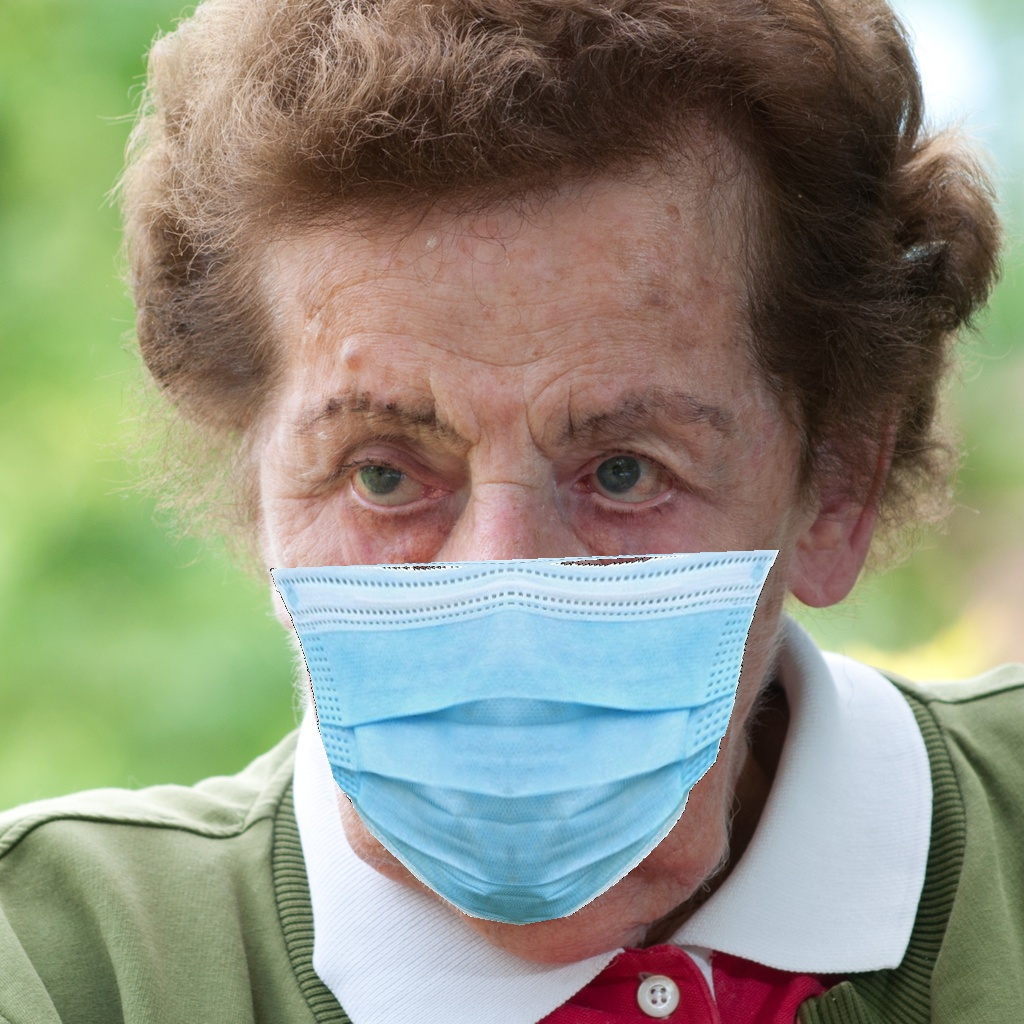Mask: (258, 371, 790, 926)
